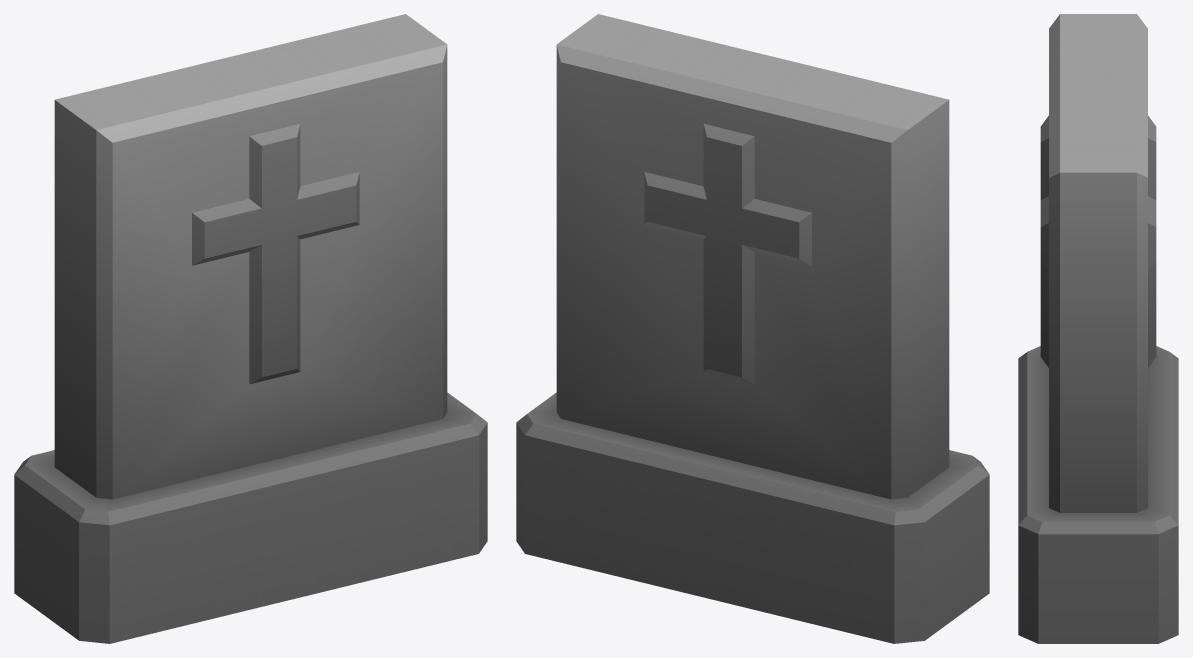
File: Tombstone4.fbx
3 views of the same model, side by side, from view 1: azimuth 30°, elevation 25°; view 2: azimuth 150°, elevation 25°; view 3: azimuth 270°, elevation 25° (orthographic). The views are drawn at different scales.
Parts seen in each view (by area): view 1: Tombstone4; view 2: Tombstone4; view 3: Tombstone4.
Part boxes in pixels (<box>): Tombstone4: <box>14,14,487,643</box>; Tombstone4: <box>516,14,989,643</box>; Tombstone4: <box>1018,14,1178,643</box>.
Bounding box in the file's own units: 1.16 × 1.35 × 0.4277.
Materials: 1 (1 with a texture image).
